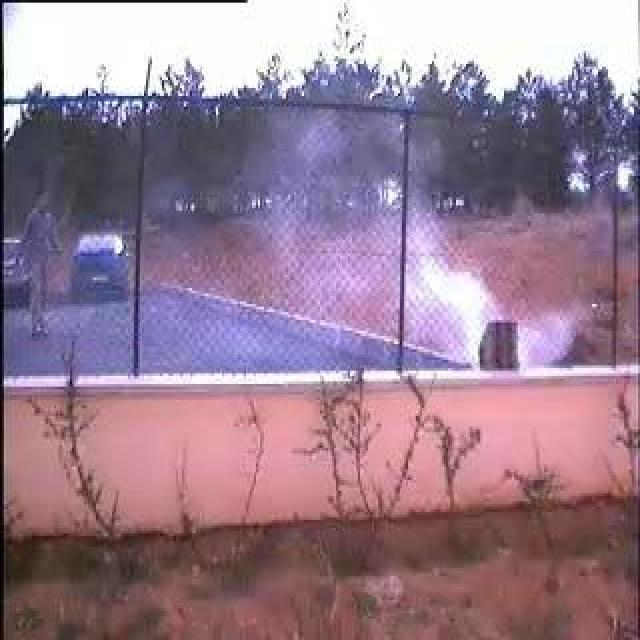Smoke: (392, 232, 564, 368)
